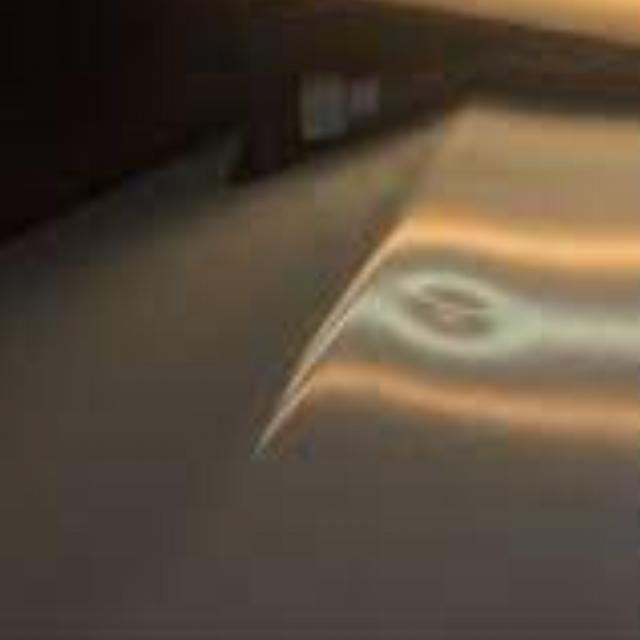dents: (384, 258, 506, 348)
